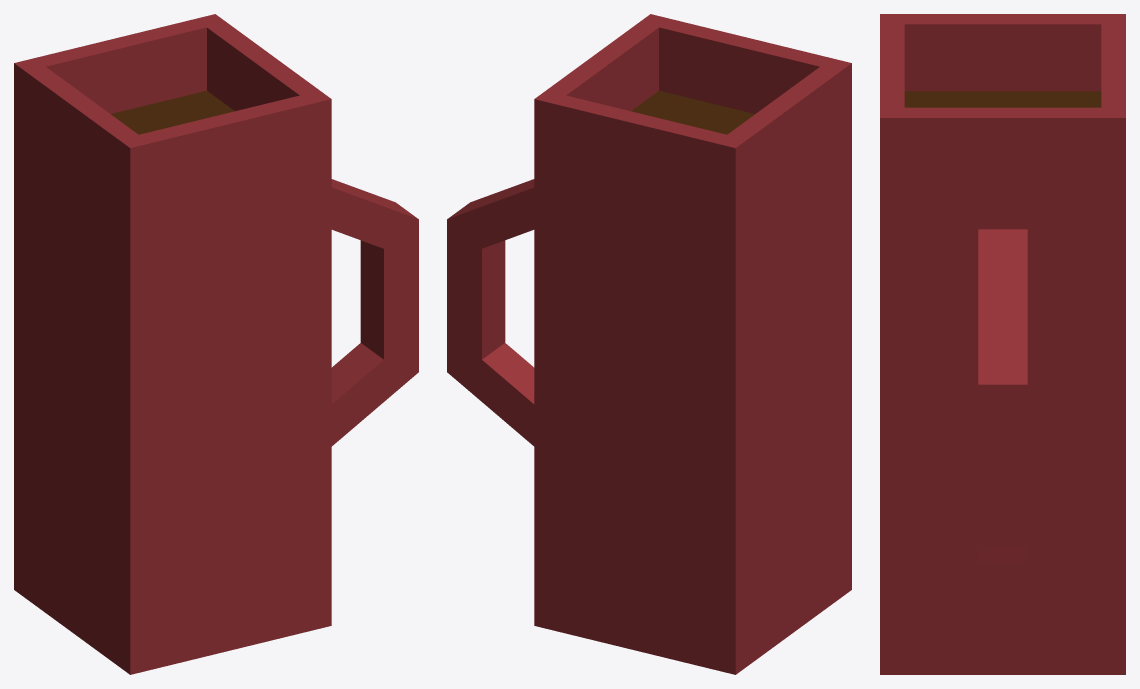
Rendered from Tasse.fbx.
3 renders of one model, left to right at view 1: azimuth 30°, elevation 25°; view 2: azimuth 150°, elevation 25°; view 3: azimuth 270°, elevation 25°, orthographic. The views are drawn at different scales.
Visible parts, largest first — view 1: Cube; view 2: Cube; view 3: Cube.
Part boxes in pixels (x1,y1,x2,y2): Cube: (14,14,418,674); Cube: (447,14,851,674); Cube: (880,14,1125,674).
Size of the model in its own units: 16.64 by 25 by 10.
